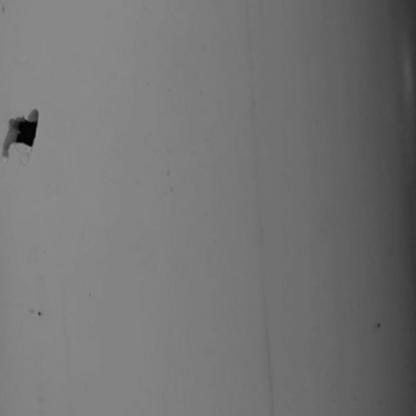kongdong: (1, 104, 41, 163)
